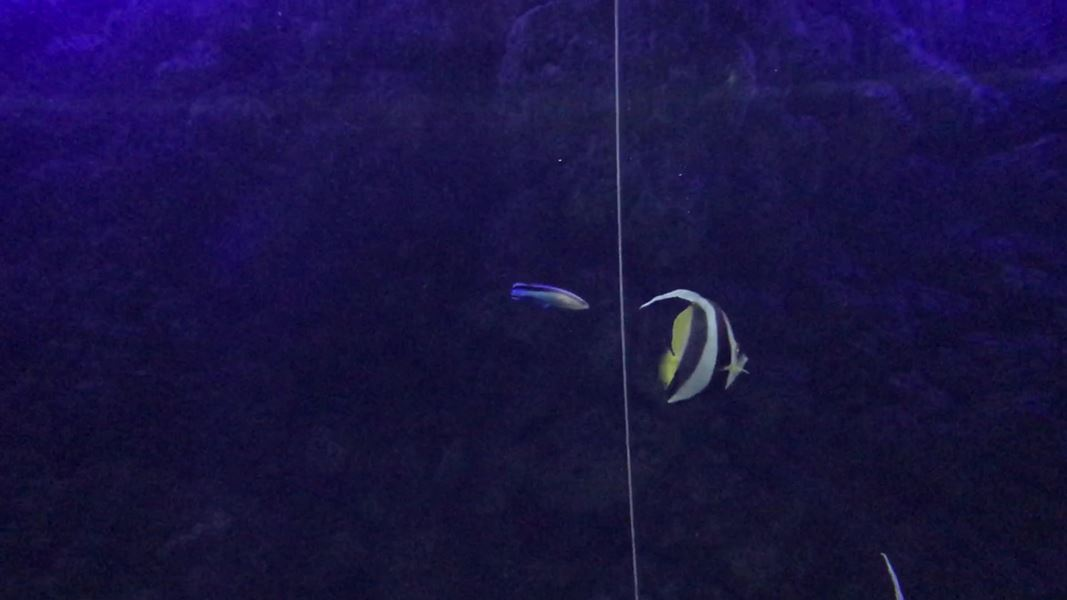Bluesteak cleaner wrasse: (501, 275, 599, 324)
